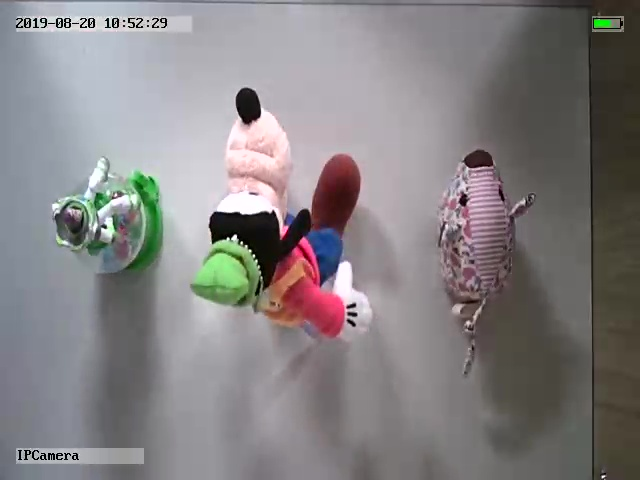buzz: (50, 155, 162, 274)
goofy: (189, 86, 372, 341)
pig: (435, 148, 535, 375)
